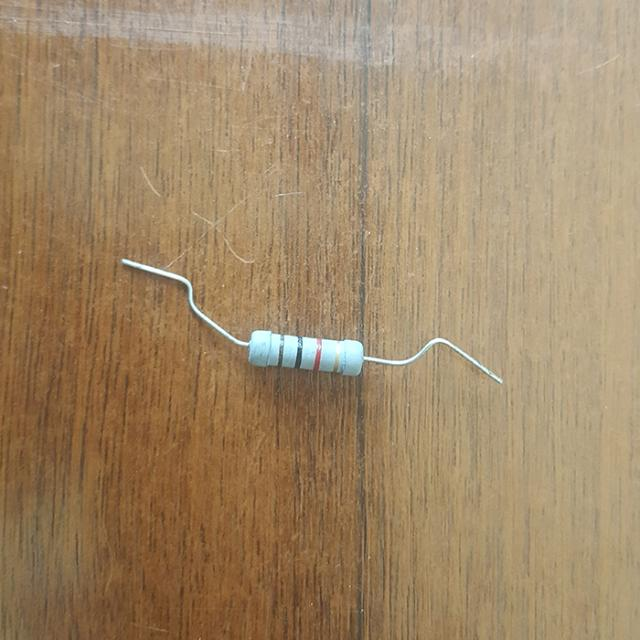black: (296, 339, 303, 367)
brown: (278, 336, 284, 365)
gold: (334, 341, 341, 372)
red: (315, 339, 323, 368)
resistor: (240, 320, 370, 384)
